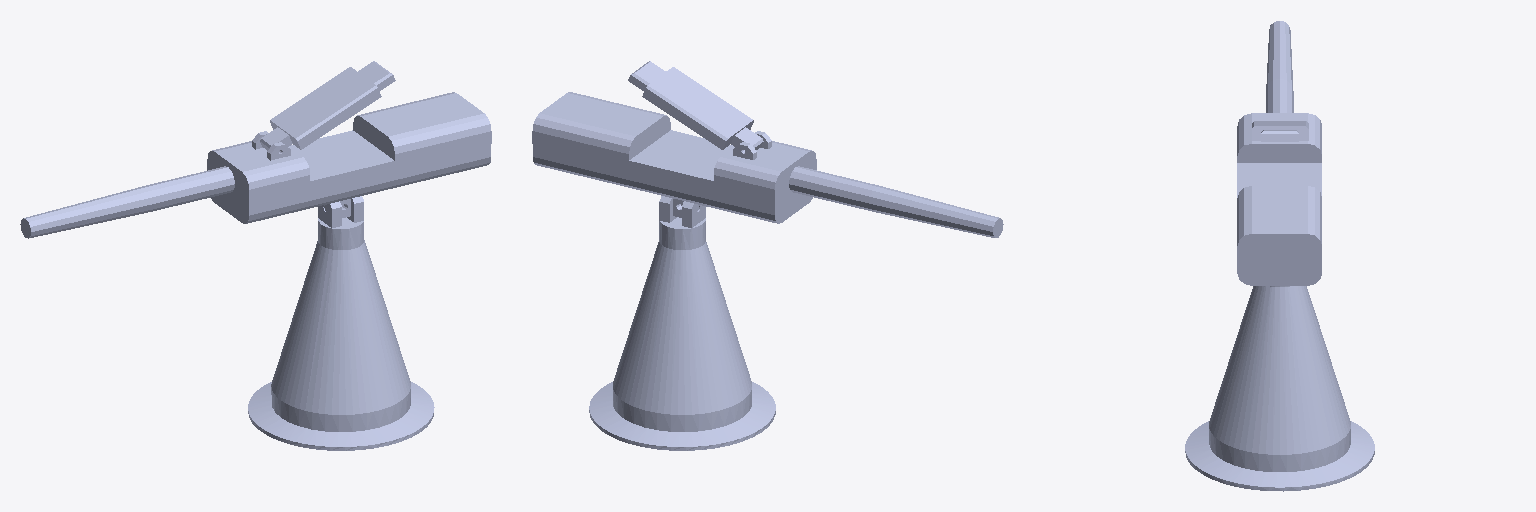
URDF robot description (homework_turret):
<?xml version="1.0" encoding="utf-8"?>
<!-- This URDF was automatically created by SolidWorks to URDF Exporter! Originally created by [author] ([email redacted]) 
     Commit Version: 1.5.1-0-g916b5db  Build Version: 1.5.7152.31018
     For more information, please see http://wiki.ros.org/sw_urdf_exporter -->
<robot
  name="homework_turret">
  <link
    name="base_link">
    <inertial>
      <origin
        xyz="0.0235556603782011 -0.149192759000051 0.0209323196154078"
        rpy="0 0 0" />
      <mass
        value="0.0183804556639265" />
      <inertia
        ixx="6.61928756294867E-06"
        ixy="5.05520985501951E-38"
        ixz="5.1935164386059E-24"
        iyy="6.61928756294867E-06"
        iyz="3.76329676540964E-22"
        izz="1.31888786015205E-05" />
    </inertial>
    <visual>
      <origin
        xyz="0 0 0"
        rpy="0 0 0" />
      <geometry>
        <mesh
          filename="package://homework_turret/meshes/base.STL" />
      </geometry>
      <material
        name="">
        <color
          rgba="0.792156862745098 0.819607843137255 0.933333333333333 1" />
      </material>
    </visual>
    <collision>
      <origin
        xyz="0 0 0"
        rpy="0 0 0" />
      <geometry>
        <mesh
          filename="package://homework_turret/meshes/base.STL" />
      </geometry>
    </collision>
  </link>
  <link
    name="stand">
    <inertial>
      <origin
        xyz="0 -0.0285409939256112 3.46944695195361E-18"
        rpy="0 0 0" />
      <mass
        value="0.120931000101119" />
      <inertia
        ixx="7.60339406115185E-05"
        ixy="-3.98581041703673E-22"
        ixz="-1.61558713389264E-24"
        iyy="3.66889839306589E-05"
        iyz="-5.88844571367851E-21"
        izz="7.60075213593919E-05" />
    </inertial>
    <visual>
      <origin
        xyz="0 0 0"
        rpy="0 0 0" />
      <geometry>
        <mesh
          filename="package://homework_turret/meshes/stand.STL" />
      </geometry>
      <material
        name="">
        <color
          rgba="0.792156862745098 0.819607843137255 0.933333333333333 1" />
      </material>
    </visual>
    <collision>
      <origin
        xyz="0 0 0"
        rpy="0 0 0" />
      <geometry>
        <mesh
          filename="package://homework_turret/meshes/stand.STL" />
      </geometry>
    </collision>
  </link>
  <joint
    name="pivot1"
    type="continuous">
    <origin
      xyz="0.023555660378201 -0.149192759000051 0.023220138640931"
      rpy="-1.5707963267949 0 -1.5707963267949" />
    <parent
      link="base_link" />
    <child
      link="stand" />
    <axis
      xyz="0 1 0" />
  </joint>
  <link
    name="cannon">
    <inertial>
      <origin
        xyz="7.02381392824886E-05 0.0203249639799919 0.0049912527708604"
        rpy="0 0 0" />
      <mass
        value="0.0983547411490395" />
      <inertia
        ixx="0.000226108912346351"
        ixy="3.93220701379915E-23"
        ixz="-1.68087849455718E-21"
        iyy="0.000230581616590587"
        iyz="-3.67964676953377E-06"
        izz="1.34544448887652E-05" />
    </inertial>
    <visual>
      <origin
        xyz="0 0 0"
        rpy="0 0 0" />
      <geometry>
        <mesh
          filename="package://homework_turret/meshes/cannon.STL" />
      </geometry>
      <material
        name="">
        <color
          rgba="0.792156862745098 0.819607843137255 0.933333333333333 1" />
      </material>
    </visual>
    <collision>
      <origin
        xyz="0 0 0"
        rpy="0 0 0" />
      <geometry>
        <mesh
          filename="package://homework_turret/meshes/cannon.STL" />
      </geometry>
    </collision>
  </link>
  <joint
    name="pivot2"
    type="revolute">
    <origin
      xyz="0 -0.0937906941134555 0"
      rpy="3.14 0 0" />
    <parent
      link="stand" />
    <child
      link="cannon" />
    <axis
      xyz="1 0 0" />
      <limit effort="1000.0" lower ="-1.0" upper="1.0" velocity="0.5"/>
  </joint>
  <link
    name="lid">
    <inertial>
      <origin
        xyz="-5.95237214350182E-05 0.000377267545745991 -0.0299654862160547"
        rpy="0 0 0" />
      <mass
        value="0.00729190737719222" />
      <inertia
        ixx="1.76524326068048E-06"
        ixy="8.04703346698251E-23"
        ixz="1.17719396495774E-22"
        iyy="2.05381446217804E-06"
        iyz="-8.24675258036372E-09"
        izz="3.30192162482788E-07" />
    </inertial>
    <visual>
      <origin
        xyz="0 0 0"
        rpy="0 0 0" />
      <geometry>
        <mesh
          filename="package://homework_turret/meshes/lid.STL" />
      </geometry>
      <material
        name="">
        <color
          rgba="0.792156862745098 0.819607843137255 0.933333333333333 1" />
      </material>
    </visual>
    <collision>
      <origin
        xyz="0 0 0"
        rpy="0 0 0" />
      <geometry>
        <mesh
          filename="package://homework_turret/meshes/lid.STL" />
      </geometry>
    </collision>
  </link>
  <joint
    name="pivot3"
    type="revolute">
    <origin
      xyz="0 0.0362294079198885 0.0346903366854567"
      rpy="0.384112470194369 0 0" />
    <parent
      link="cannon" />
    <child
      link="lid" />
    <axis
      xyz="1 0 0" />
    <limit effort="1000.0" lower ="-0.4" upper="0.0" velocity="0.5"/>
  </joint>
</robot>

--- Facts derived from the render (not from the file) ---
Views: 3 orthographic renders of the robot side by side, from view 1: azimuth 30°, elevation 25°; view 2: azimuth 150°, elevation 25°; view 3: azimuth 270°, elevation 25°.
Robot: homework_turret — 4 links, 3 joints (2 revolute, 1 continuous); root link base_link; default pose: every joint at zero.
Links seen in each view (by area): view 1: cannon, stand, lid, base_link; view 2: cannon, stand, lid, base_link; view 3: stand, cannon, base_link, lid.
Link boxes in pixels (box(x1,y1,x2,y2)): cannon: box(20, 92, 491, 238); stand: box(271, 196, 410, 431); lid: box(260, 61, 395, 150); base_link: box(248, 382, 434, 450); cannon: box(532, 92, 1003, 237); stand: box(613, 196, 751, 431); lid: box(628, 61, 763, 149); base_link: box(589, 382, 775, 450); stand: box(1209, 286, 1350, 471); cannon: box(1237, 21, 1321, 285); base_link: box(1185, 421, 1374, 491); lid: box(1252, 121, 1308, 141).
Bounding box of the posed robot: 0.2204 × 0.08 × 0.1583 m (x, y, z).
Meshes: 4 distinct files referenced, 4 mesh visuals loaded (4 binary STL).